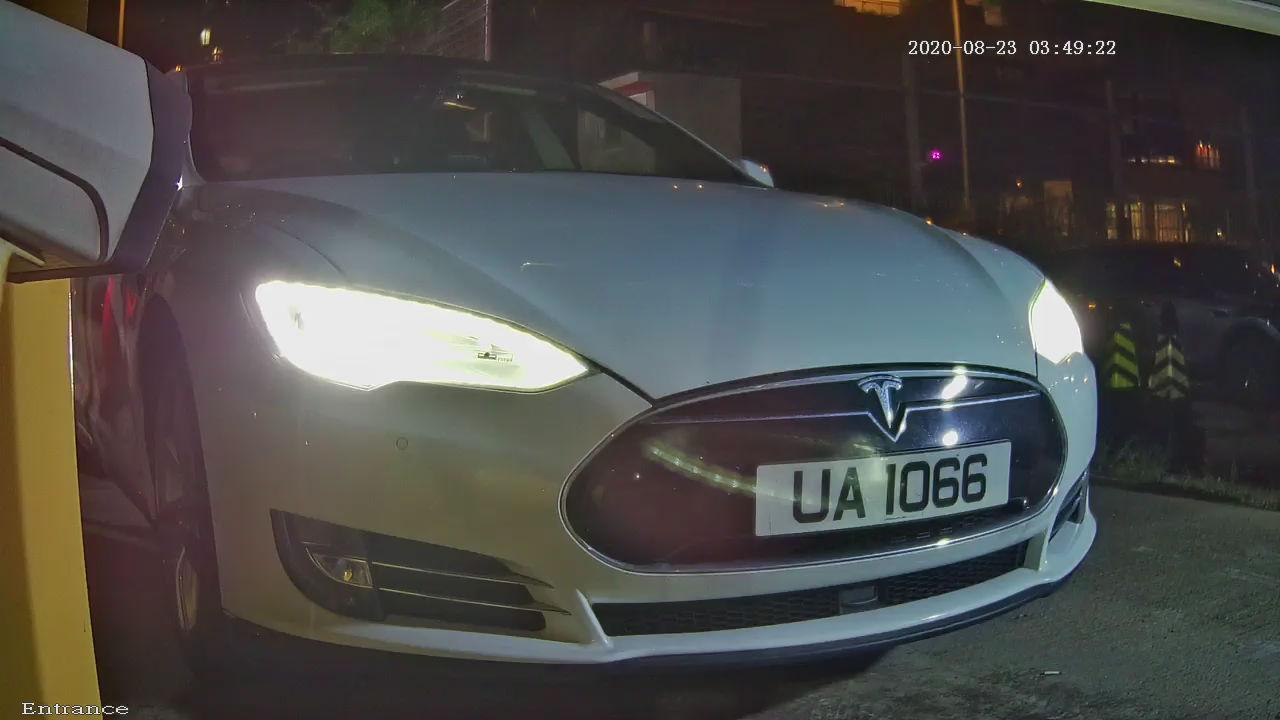Car: (12, 7, 1241, 714)
License Plate: (689, 404, 1070, 586)
